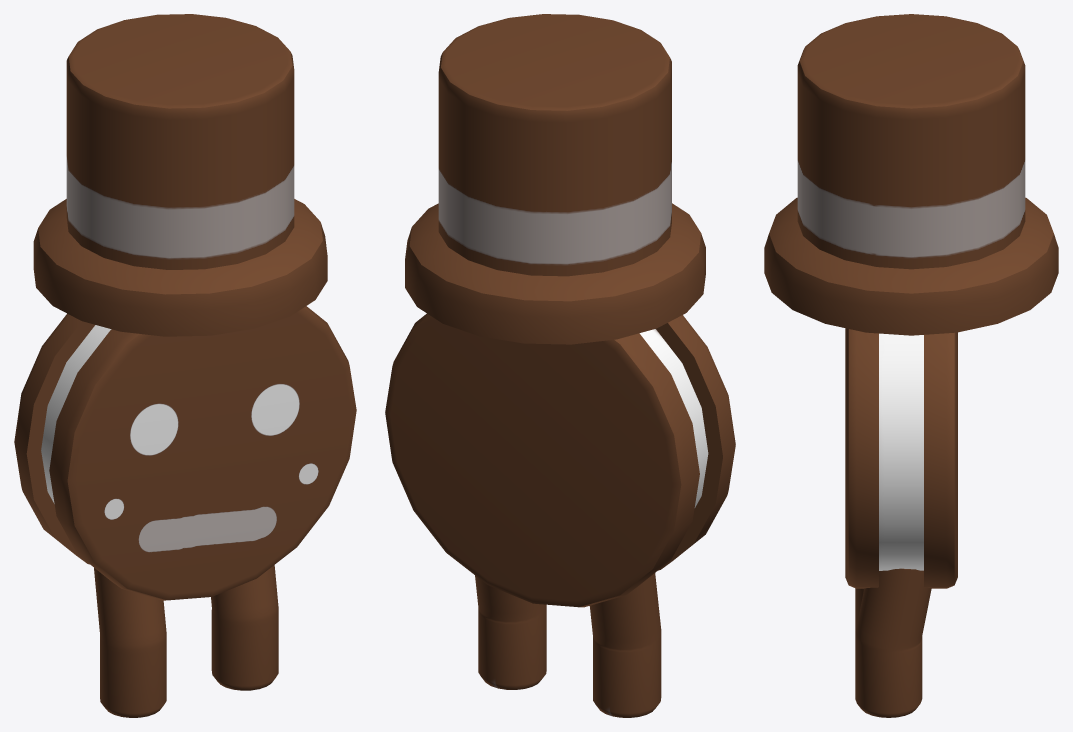
File: goober.fbx
3 views of the same model, side by side, from view 1: azimuth 30°, elevation 25°; view 2: azimuth 150°, elevation 25°; view 3: azimuth 270°, elevation 25° (orthographic). The views are drawn at different scales.
Parts seen in each view (by area): view 1: pCylinder10; view 2: pCylinder10; view 3: pCylinder10.
Boxes of the visible parts, <box> form: pCylinder10: <box>14,14,356,717</box>; pCylinder10: <box>385,14,735,717</box>; pCylinder10: <box>764,14,1058,717</box>.
Size of the model in its own units: 71.8 by 146 by 62.3.
